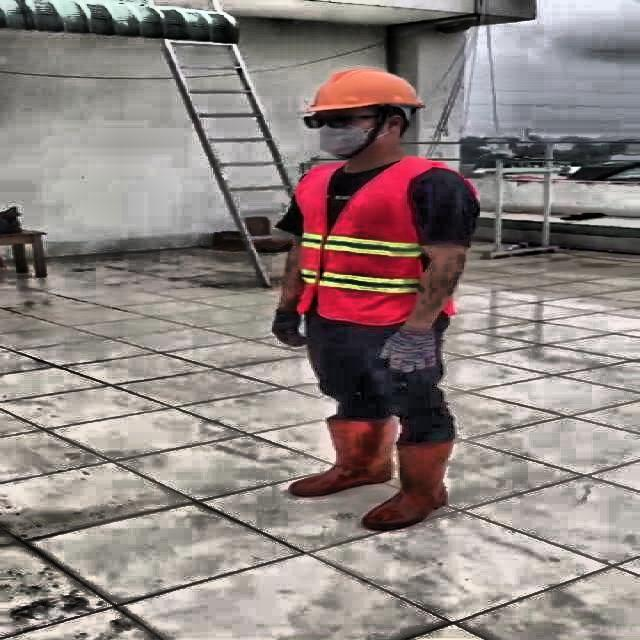safety_helmet: (302, 64, 428, 119)
safety_jacket: (288, 160, 459, 321)
